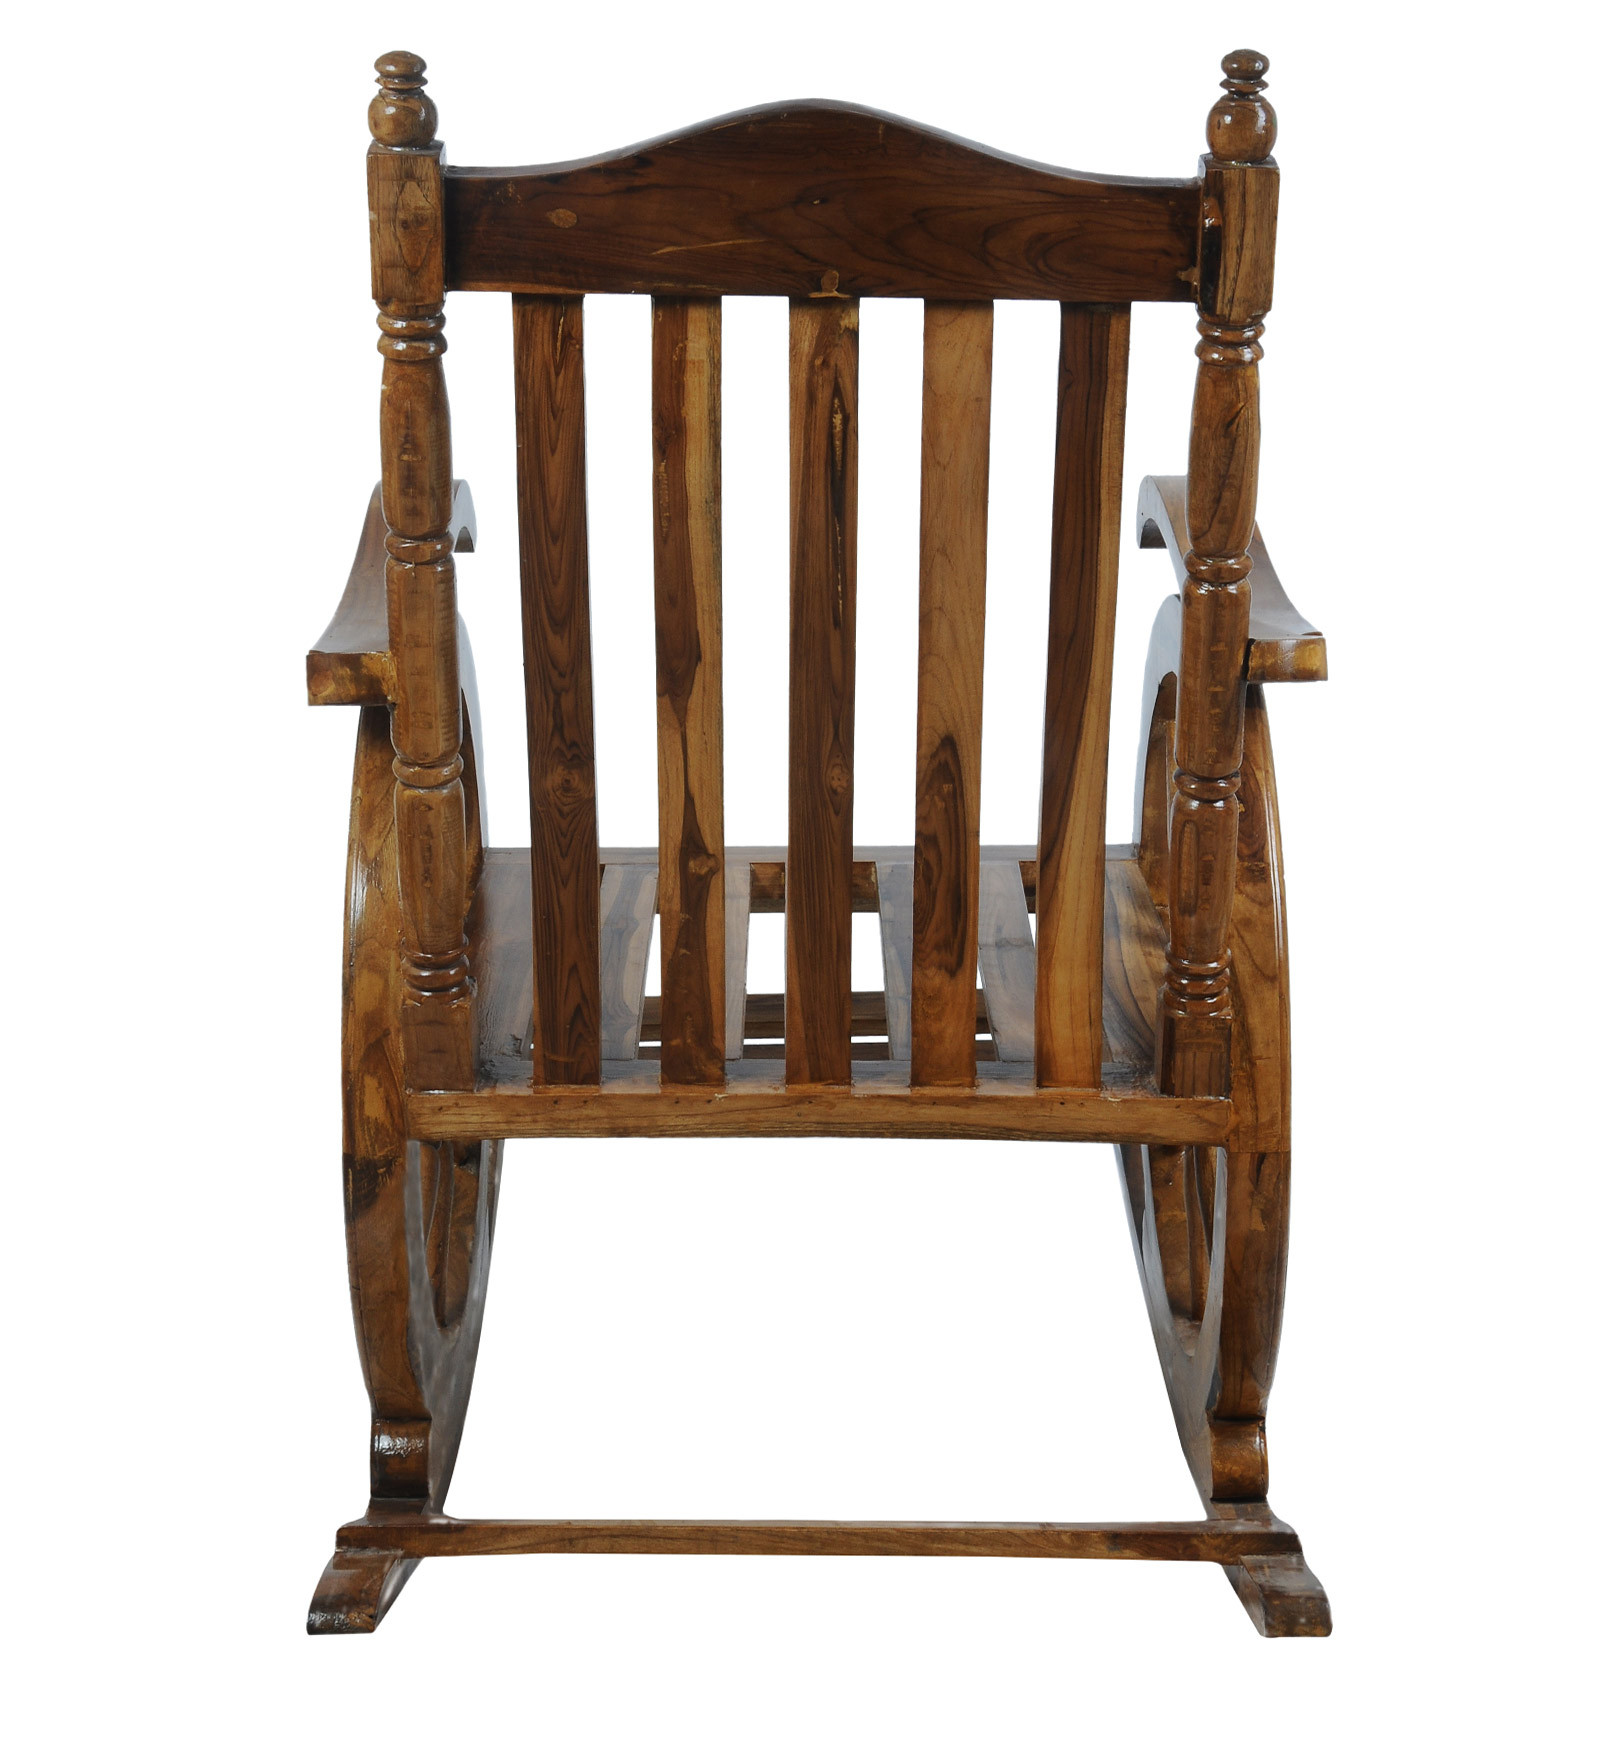Chariot Teak Wood Rocking Chair in Natural Finish by Furniease: (236, 15, 1356, 1674)
